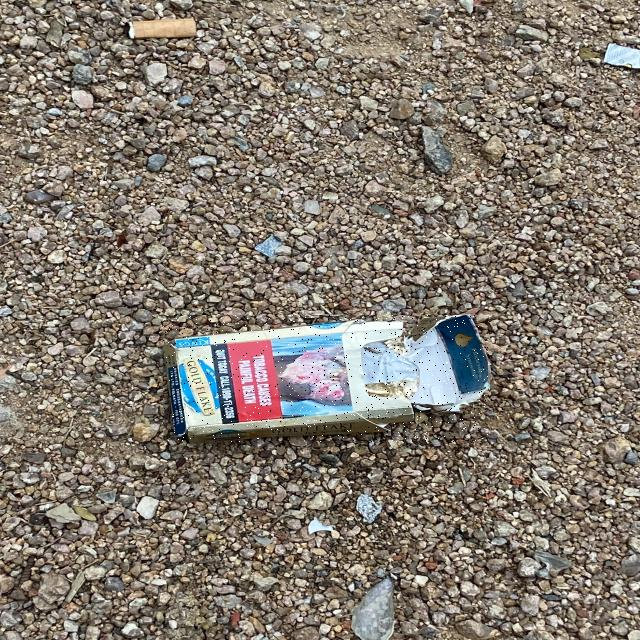paper: (164, 316, 489, 442)
